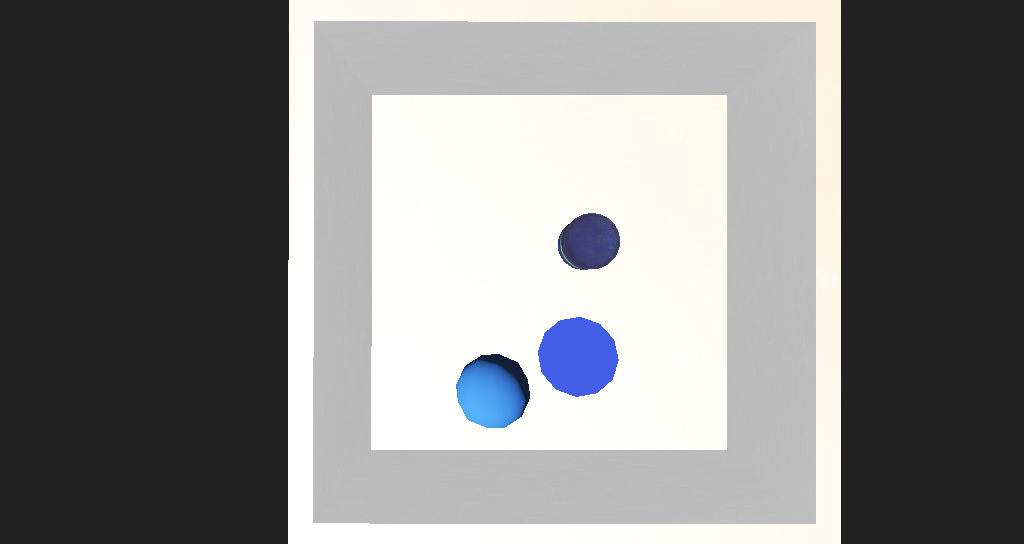cone: (515, 236, 563, 270)
cylinder: (492, 291, 559, 358)
sphere: (428, 315, 488, 363)
